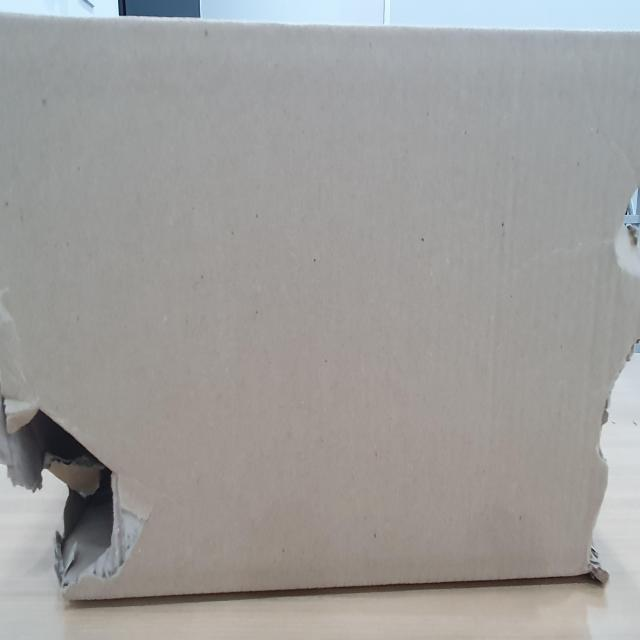damaged: (11, 388, 137, 596)
